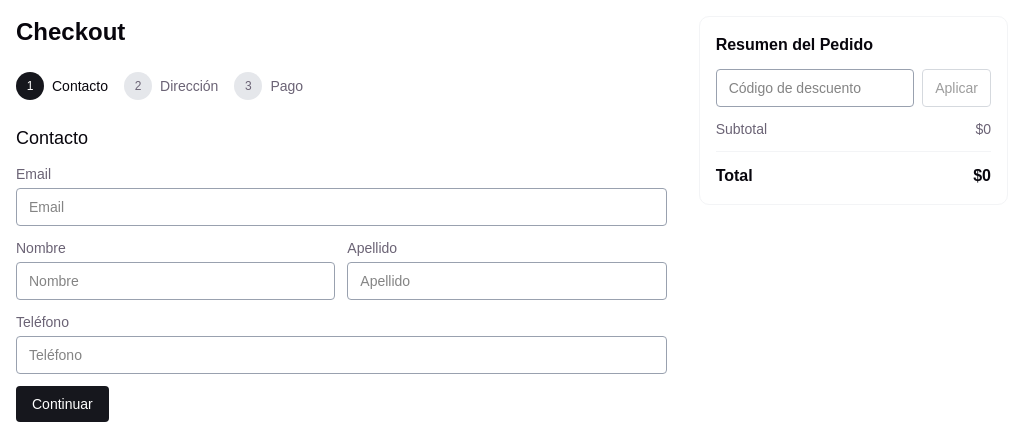
Test: Checkout page › tells the customer when a coupon code is rejected
The width and height of the screenshot is (1025, 439).
Type "NO-EXISTE" into the field with placeholder "Código de descuento".
click(815, 88); type("NO-EXISTE")  # box [716,69,914,107]
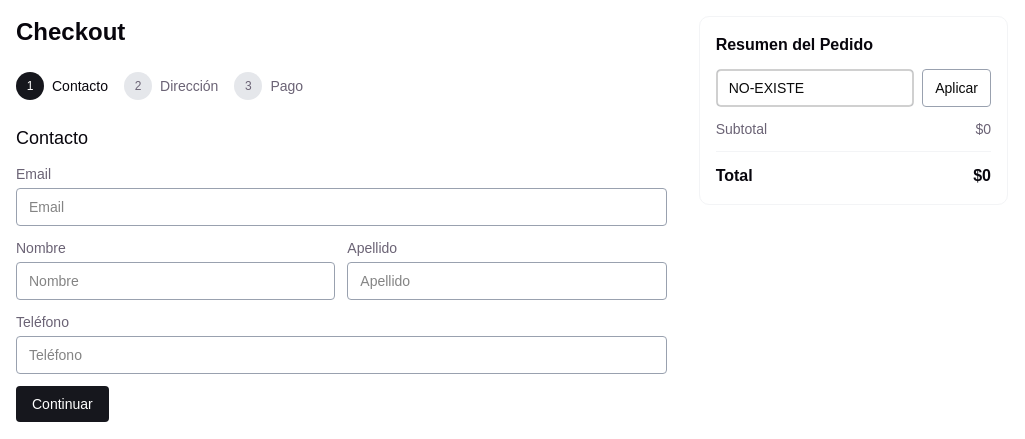
Click the button "Aplicar".
click(957, 88)  # box [922,69,991,107]
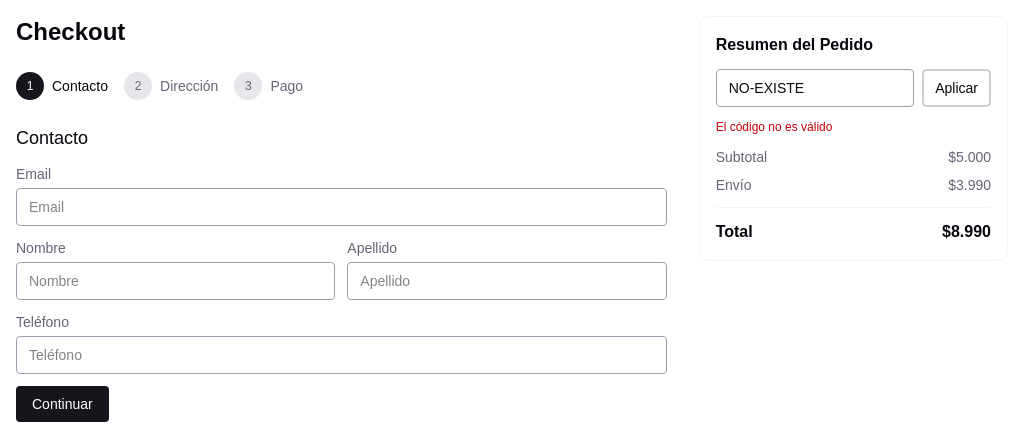
Now the text "El código no es válido" is shown, box [716,120,832,134]
